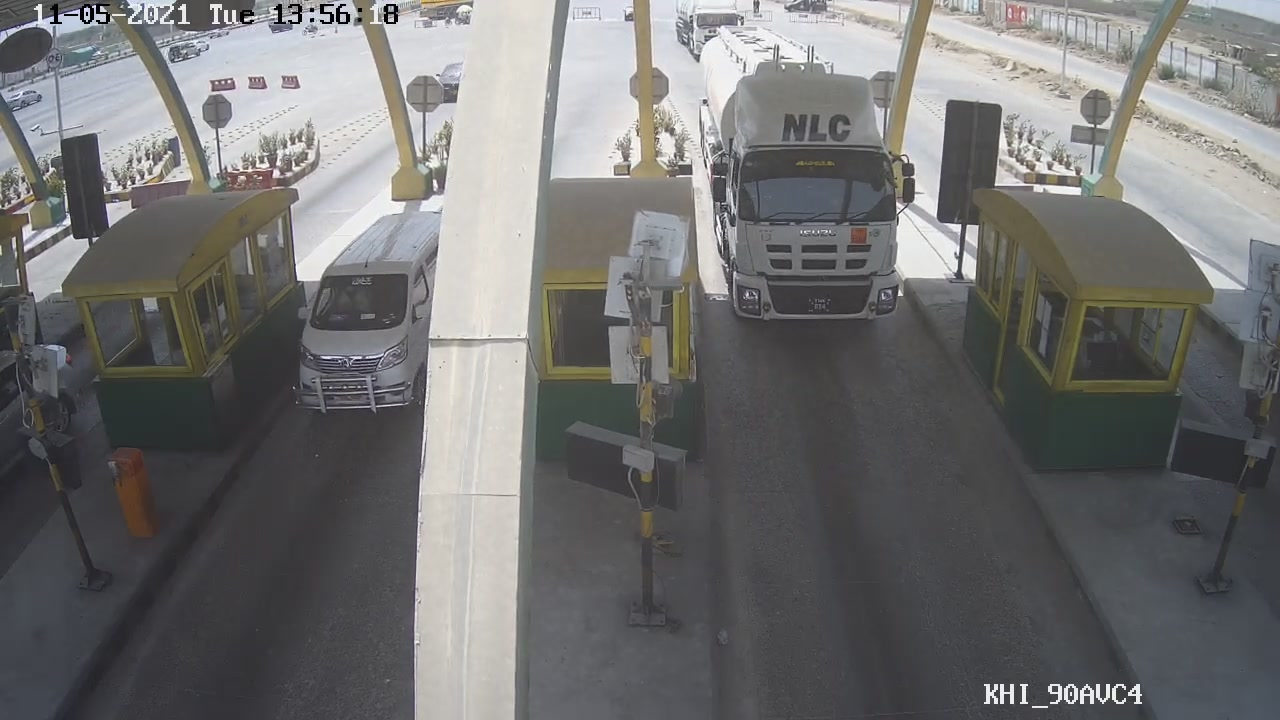F6: (696, 20, 930, 332)
